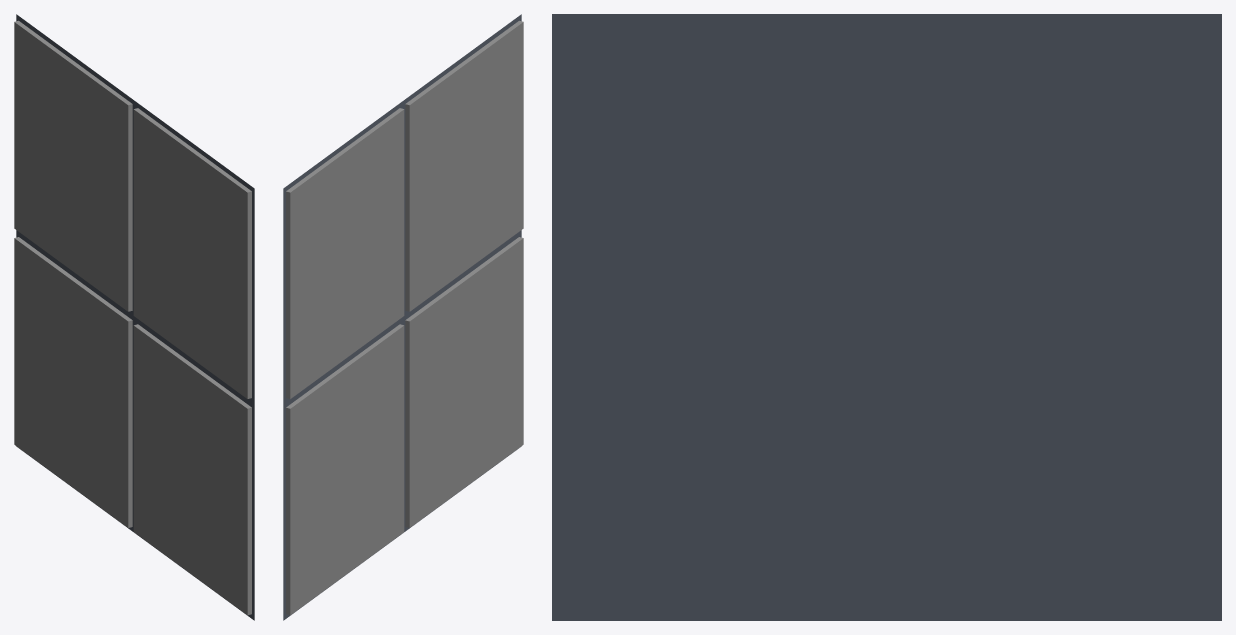
File: Wall_19.FBX
3 views of the same model, side by side, from view 1: azimuth 30°, elevation 25°; view 2: azimuth 150°, elevation 25°; view 3: azimuth 270°, elevation 25° (orthographic). The views are drawn at different scales.
Parts seen in each view (by area): view 1: Wall_19_LOD0; view 2: Wall_19_LOD0; view 3: Wall_19_LOD0.
Part boxes in pixels (x1=…): Wall_19_LOD0: x1=14, y1=14, x2=254, y2=620; Wall_19_LOD0: x1=283, y1=14, x2=523, y2=620; Wall_19_LOD0: x1=552, y1=14, x2=1221, y2=620.
Size of what is drawn, in the model's own units: 2 by 180 by 180.
